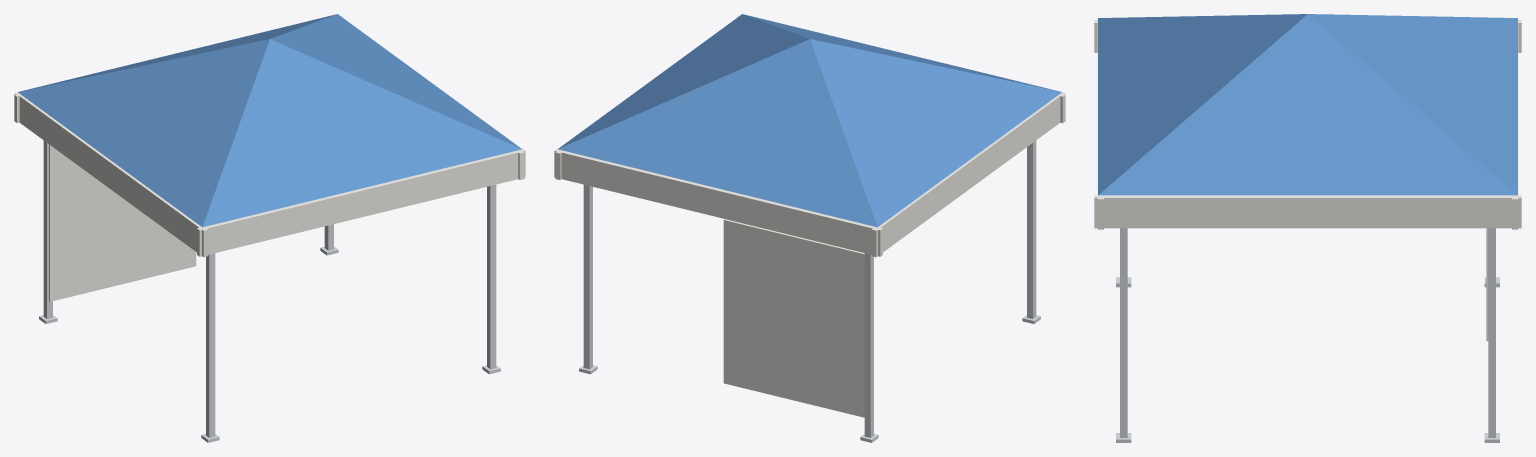
The model's file is hot-air-balloon-festival-registration-gazebo-1f36ec9a.glb.
3 views of the same model, side by side, from view 1: azimuth 30°, elevation 25°; view 2: azimuth 150°, elevation 25°; view 3: azimuth 270°, elevation 25° (orthographic). The views are drawn at different scales.
Visible parts, largest first — view 1: registration-gazebo-canvasC, registration-gazebo-canvasB, registration-gazebo-steel; view 2: registration-gazebo-canvasC, registration-gazebo-canvasB, registration-gazebo-steel; view 3: registration-gazebo-canvasC, registration-gazebo-canvasB, registration-gazebo-steel.
Part boxes in pixels (<box>): registration-gazebo-canvasC: <box>18,14,521,227</box>; registration-gazebo-canvasB: <box>14,15,525,301</box>; registration-gazebo-steel: <box>39,140,500,442</box>; registration-gazebo-canvasC: <box>558,14,1061,227</box>; registration-gazebo-canvasB: <box>554,15,1065,417</box>; registration-gazebo-steel: <box>579,140,1040,442</box>; registration-gazebo-canvasC: <box>1098,14,1517,195</box>; registration-gazebo-canvasB: <box>1094,19,1521,341</box>; registration-gazebo-steel: <box>1116,228,1499,442</box>.
Size of the model in its own units: 3.34 by 3 by 3.34.
